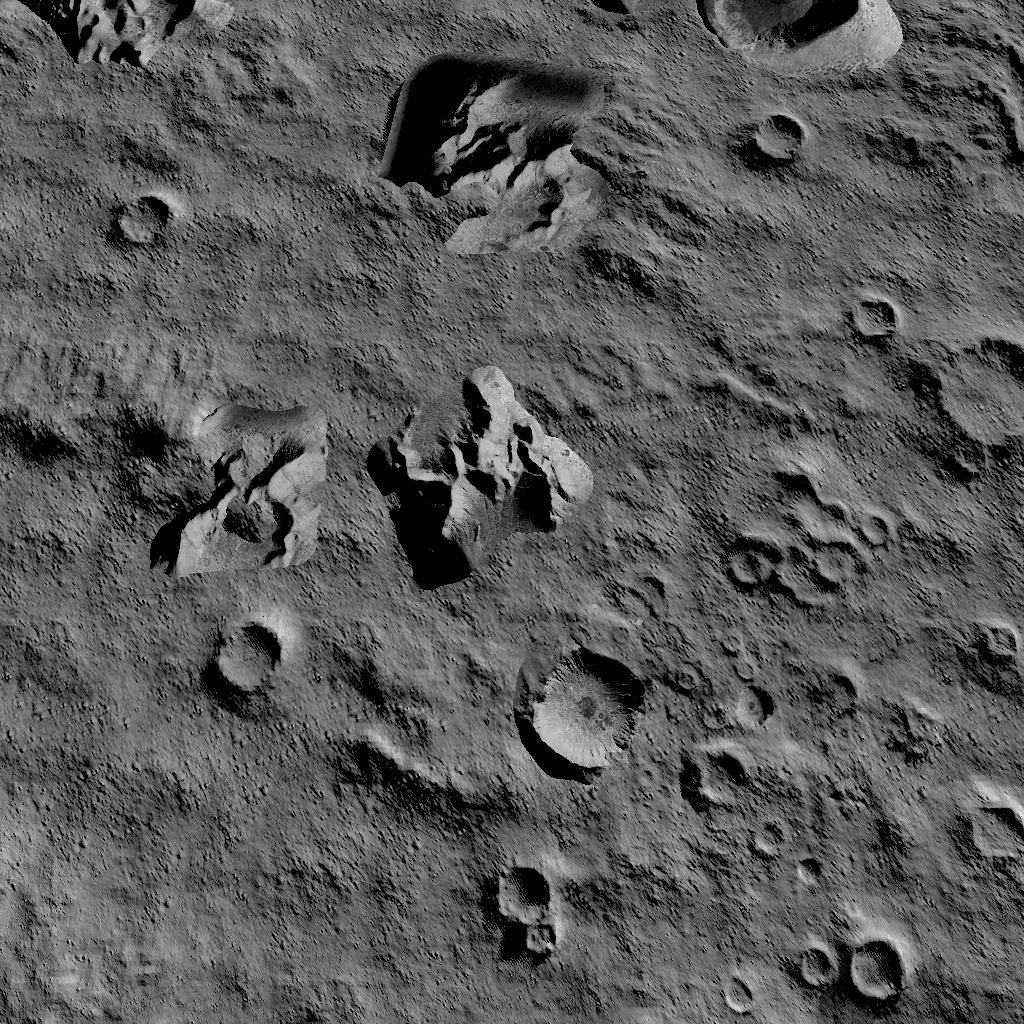Boulders: (386, 52, 710, 300), (3, 345, 328, 573), (368, 370, 596, 590), (0, 2, 241, 98)
Crater: (731, 465, 895, 610), (931, 328, 1024, 492), (526, 648, 643, 776), (794, 935, 910, 1013), (483, 862, 563, 968), (201, 622, 288, 702), (678, 738, 752, 812), (963, 800, 1024, 870), (746, 110, 810, 173), (106, 190, 173, 245), (846, 288, 900, 346)
Plan surface: (0, 588, 191, 1024), (208, 822, 470, 1024), (191, 120, 373, 333), (723, 190, 1024, 275)
